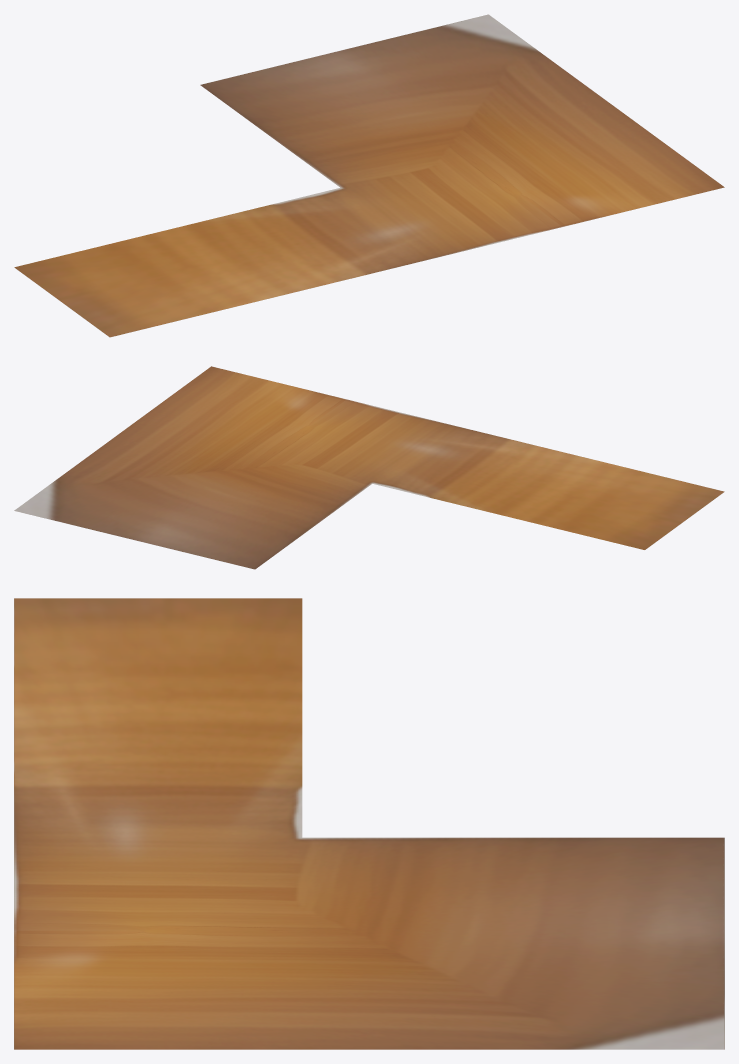
Rendered from floor.obj.
3 renders of one model, top to bottom at view 1: azimuth 30°, elevation 25°; view 2: azimuth 150°, elevation 25°; view 3: azimuth 270°, elevation 25°, orthographic. The views are drawn at different scales.
Parts seen in each view (by area): view 1: wall; view 2: wall; view 3: wall.
Boxes of the visible parts, <box> form: wall: <box>14,14,724,337</box>; wall: <box>14,366,724,569</box>; wall: <box>14,598,724,1049</box>.
Size of the model in its own units: 276 by 1.53e-05 by 184.
